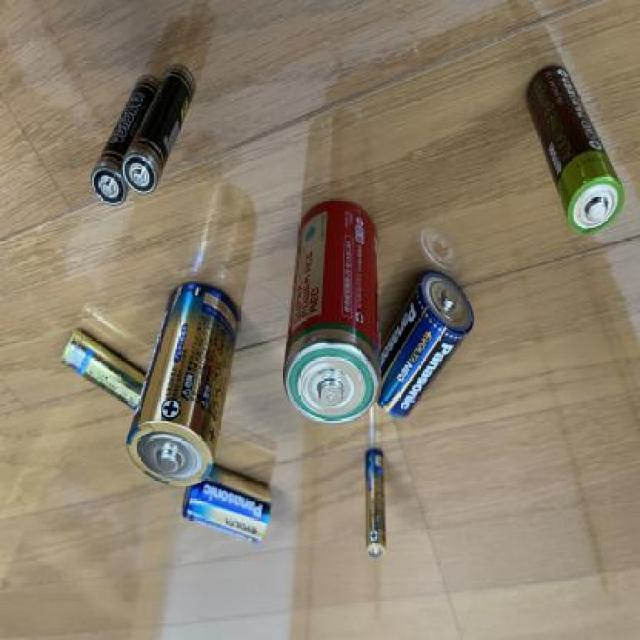AA: (522, 66, 626, 240)
AAA: (362, 446, 389, 565)
